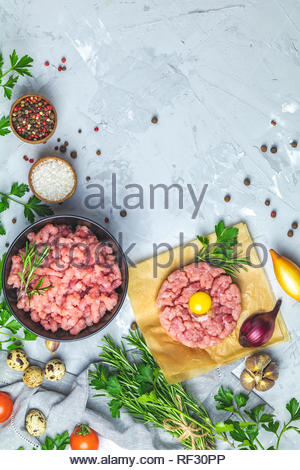ground_beef: (150, 259, 257, 359), (11, 232, 119, 323)
